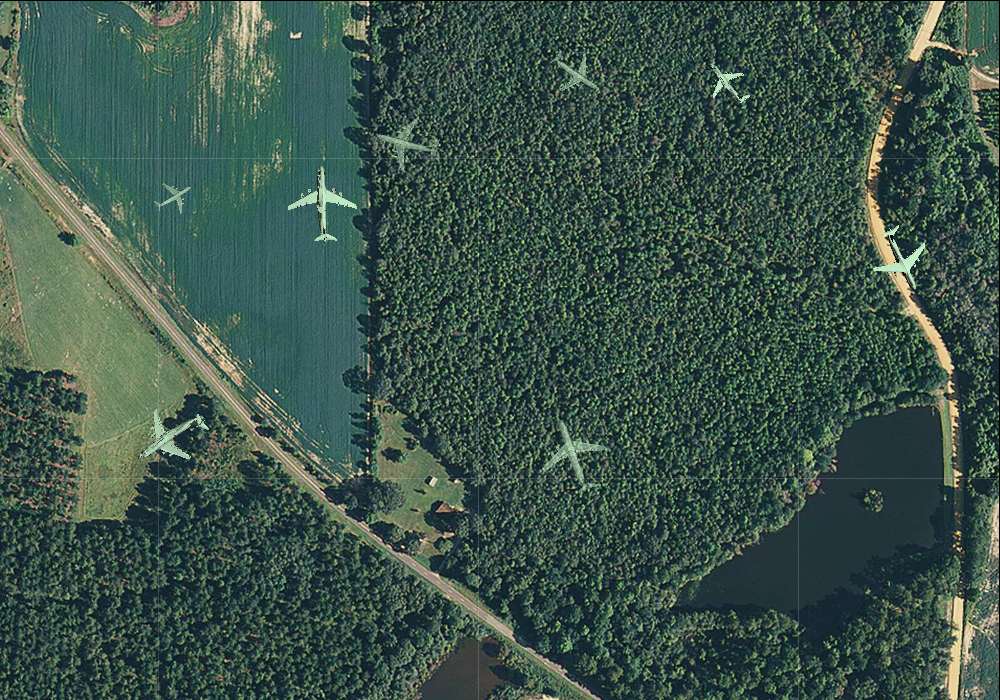plane: (118, 387, 222, 490), (527, 407, 622, 504), (859, 214, 945, 302), (368, 104, 446, 180), (285, 164, 360, 243), (538, 34, 612, 108), (695, 48, 762, 116), (145, 169, 200, 223)
